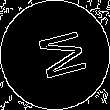M_W: (25, 26, 85, 84)
